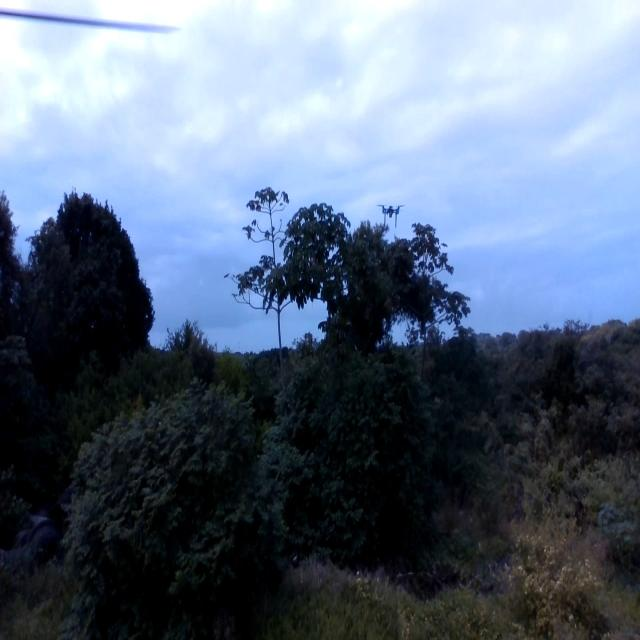-uav-: (376, 196, 410, 242)
